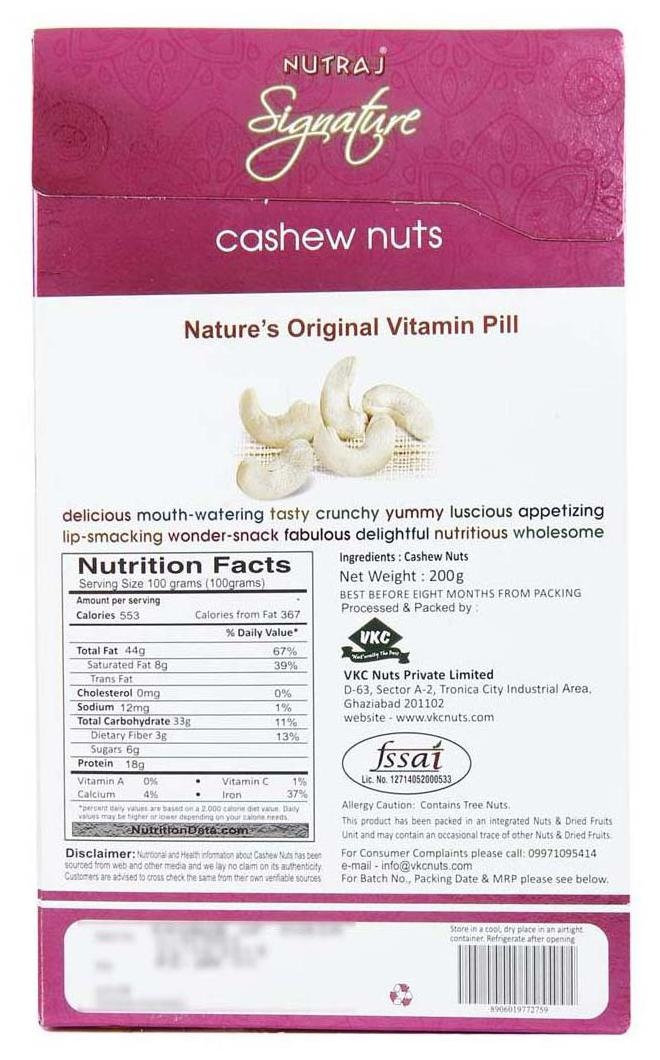fssai: (369, 740, 443, 772)
